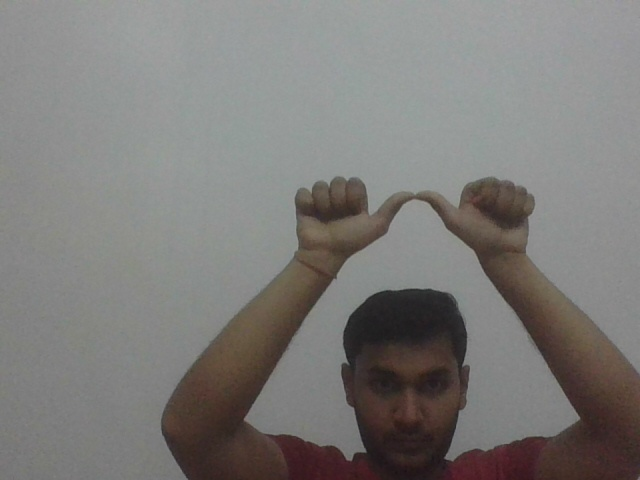A: (288, 175, 539, 253)
